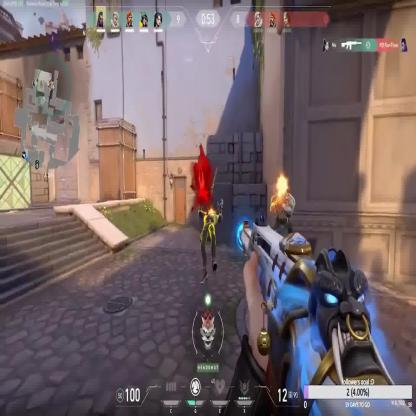enemy: (270, 174, 296, 292)
enemy_head: (276, 173, 288, 198)
